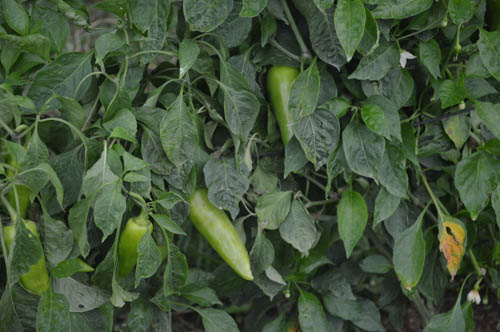ChiliPepper: (179, 186, 258, 285), (2, 216, 54, 298), (266, 58, 306, 152), (110, 207, 157, 286)
